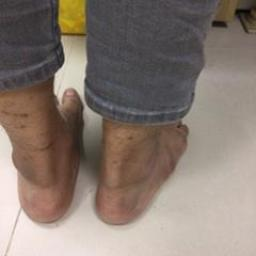Back View -Both Feet-: (1, 81, 202, 232)
